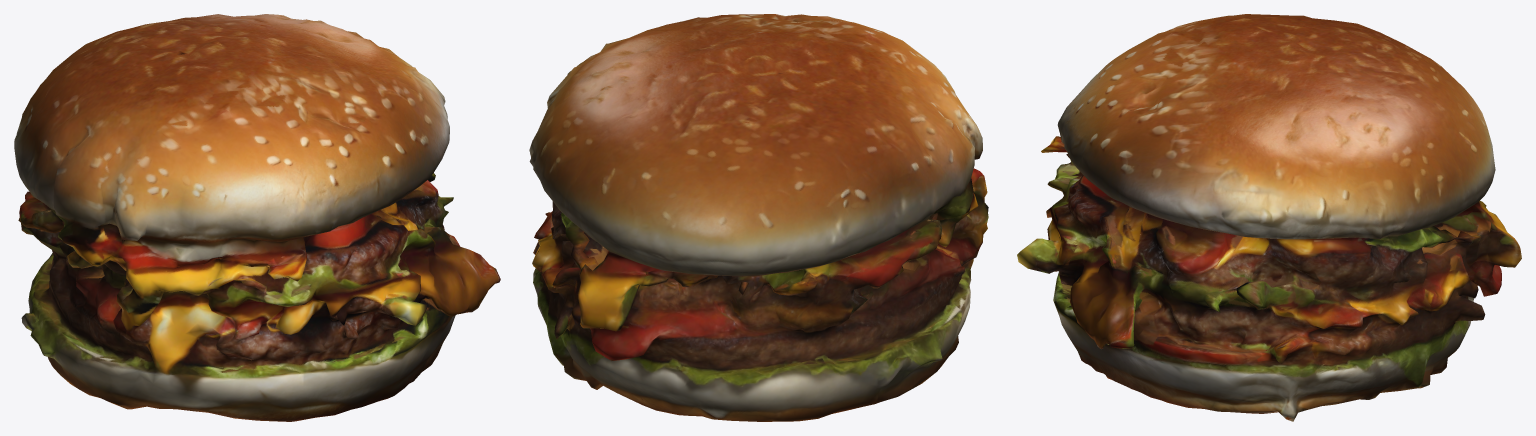
Rendered from burgerbeef.glb.
The picture shows the model from 3 angles, left to right: view 1: azimuth 30°, elevation 25°; view 2: azimuth 150°, elevation 25°; view 3: azimuth 270°, elevation 25°; orthographic projection. The views are drawn at different scales.
Visible parts, largest first — view 1: Mesh1_Mesh1.139; view 2: Mesh1_Mesh1.139; view 3: Mesh1_Mesh1.139.
Part boxes in pixels (left/top/right/bottom): Mesh1_Mesh1.139: left=14, top=14, right=500, bottom=421; Mesh1_Mesh1.139: left=529, top=14, right=988, bottom=421; Mesh1_Mesh1.139: left=1017, top=14, right=1521, bottom=421.
Bounding box in the file's own units: 1.78 × 1.28 × 2.01.
1 material, 1 textured.
